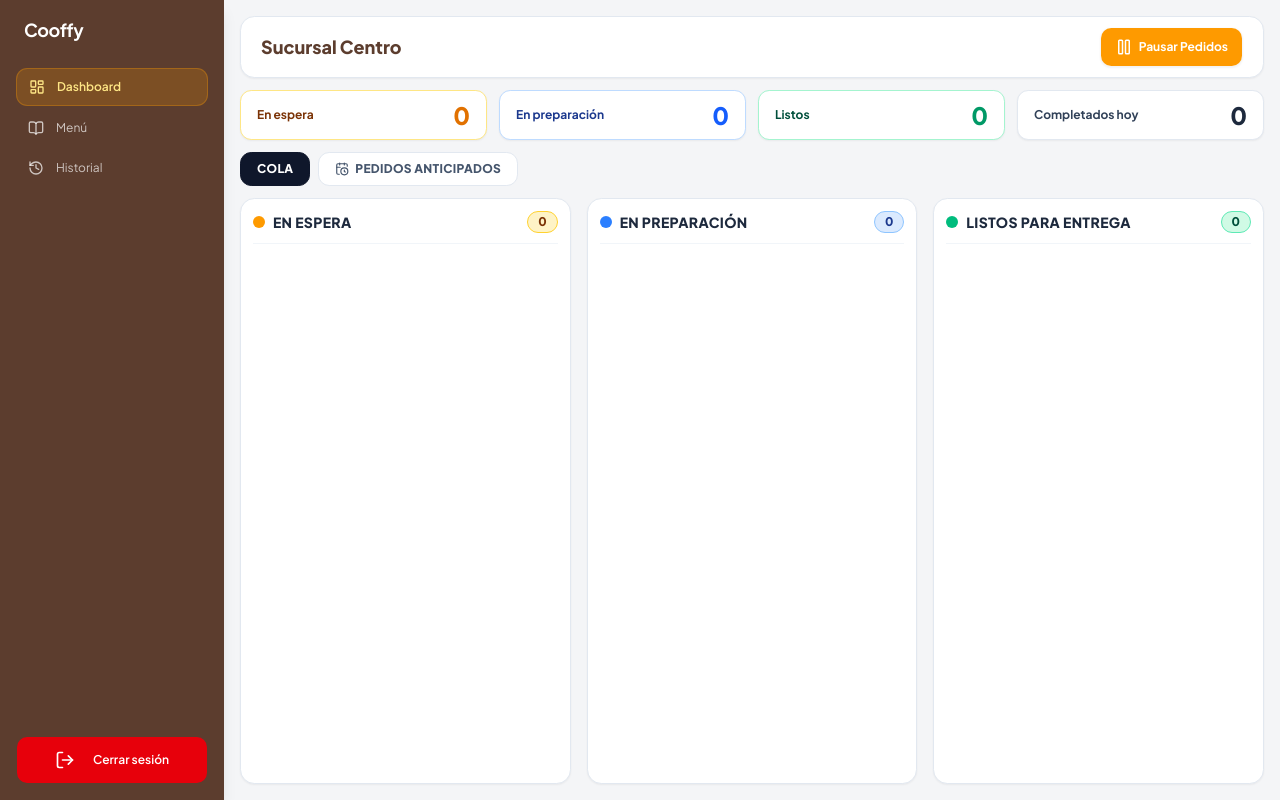
Test: KitchenView — RF-14 pedidos anticipados › al cambiar a PEDIDOS ANTICIPADOS lista los pre-orders con hora de recogida
Click the tab with test id "kitchen-tab-upcoming".
click(418, 169)  # box [318, 152, 518, 186]
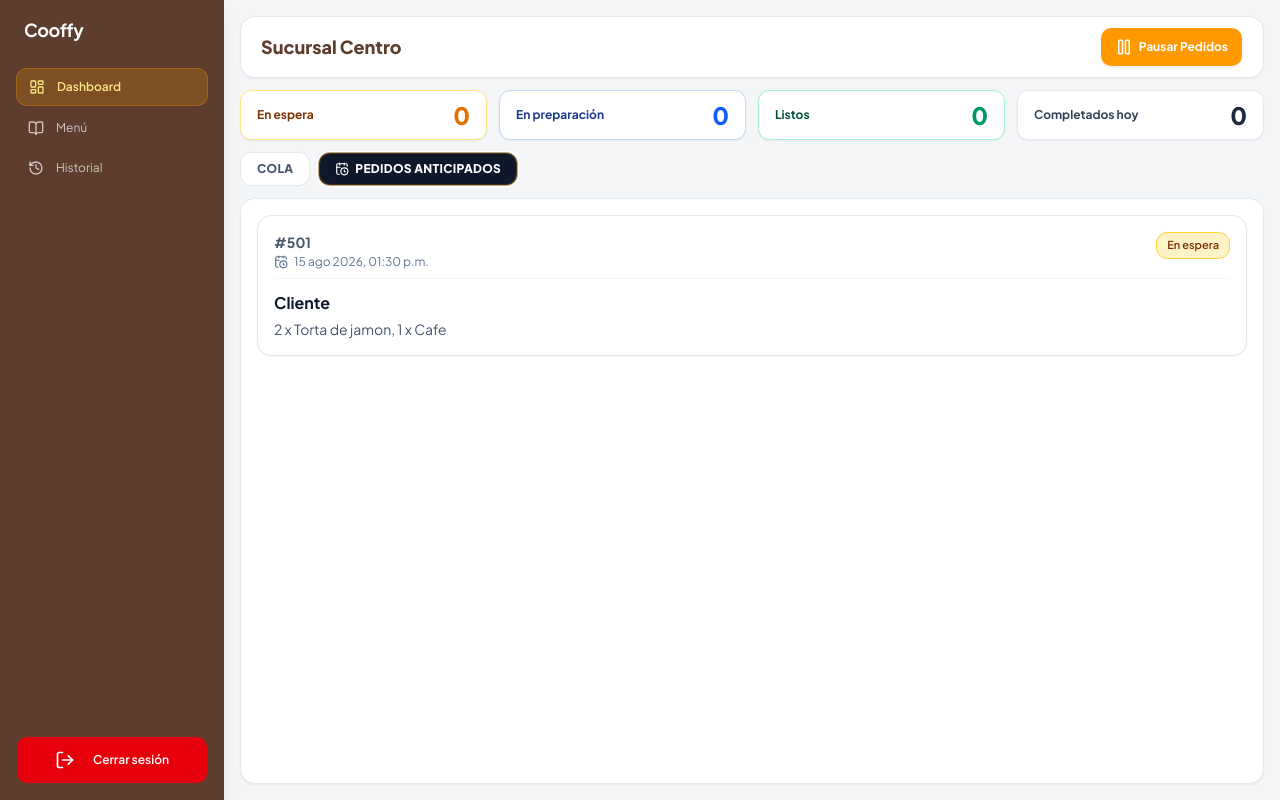
Check: the element with test id "kitchen-preorder-row" shows "#501", box [257, 215, 1247, 356]
Check: the text with test id "preorder-products" shows "2 x Torta de jamon", box [274, 320, 447, 338]
